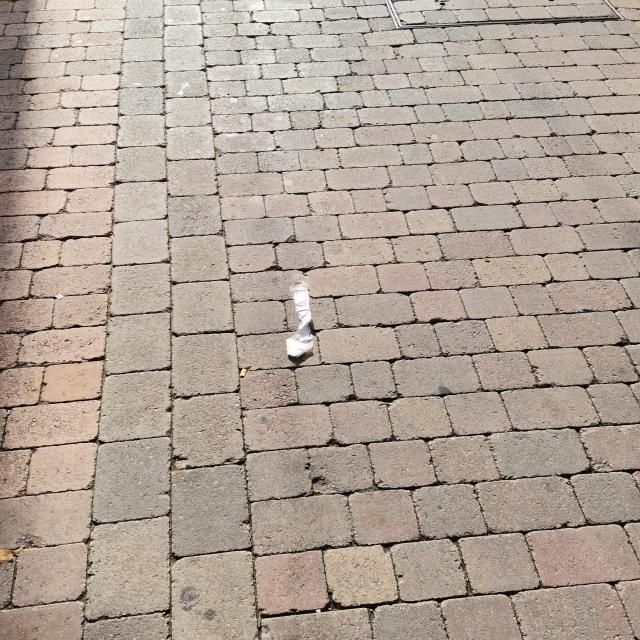litter: (286, 286, 317, 362)
